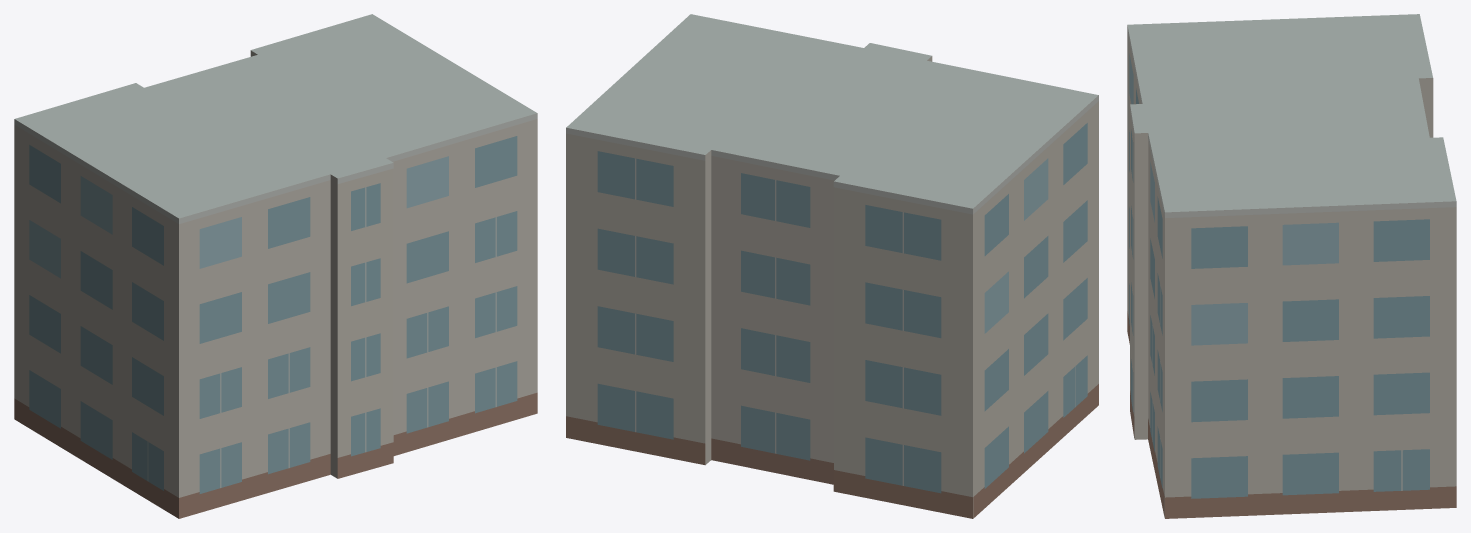
File: survey-upis-32756429.glb
The picture shows the model from 3 angles, left to right: view 1: azimuth 30°, elevation 25°; view 2: azimuth 150°, elevation 25°; view 3: azimuth 270°, elevation 25°; orthographic projection. The views are drawn at different scales.
Parts seen in each view (by area): view 1: survey-upis-32756429.tmp; view 2: survey-upis-32756429.tmp; view 3: survey-upis-32756429.tmp.
Part boxes in pixels (left/top/right/bottom): survey-upis-32756429.tmp: left=14, top=14, right=537, bottom=518; survey-upis-32756429.tmp: left=566, top=14, right=1098, bottom=518; survey-upis-32756429.tmp: left=1127, top=14, right=1456, bottom=518.
Bounding box in the file's own units: 17.91 × 12.9 × 12.57.
